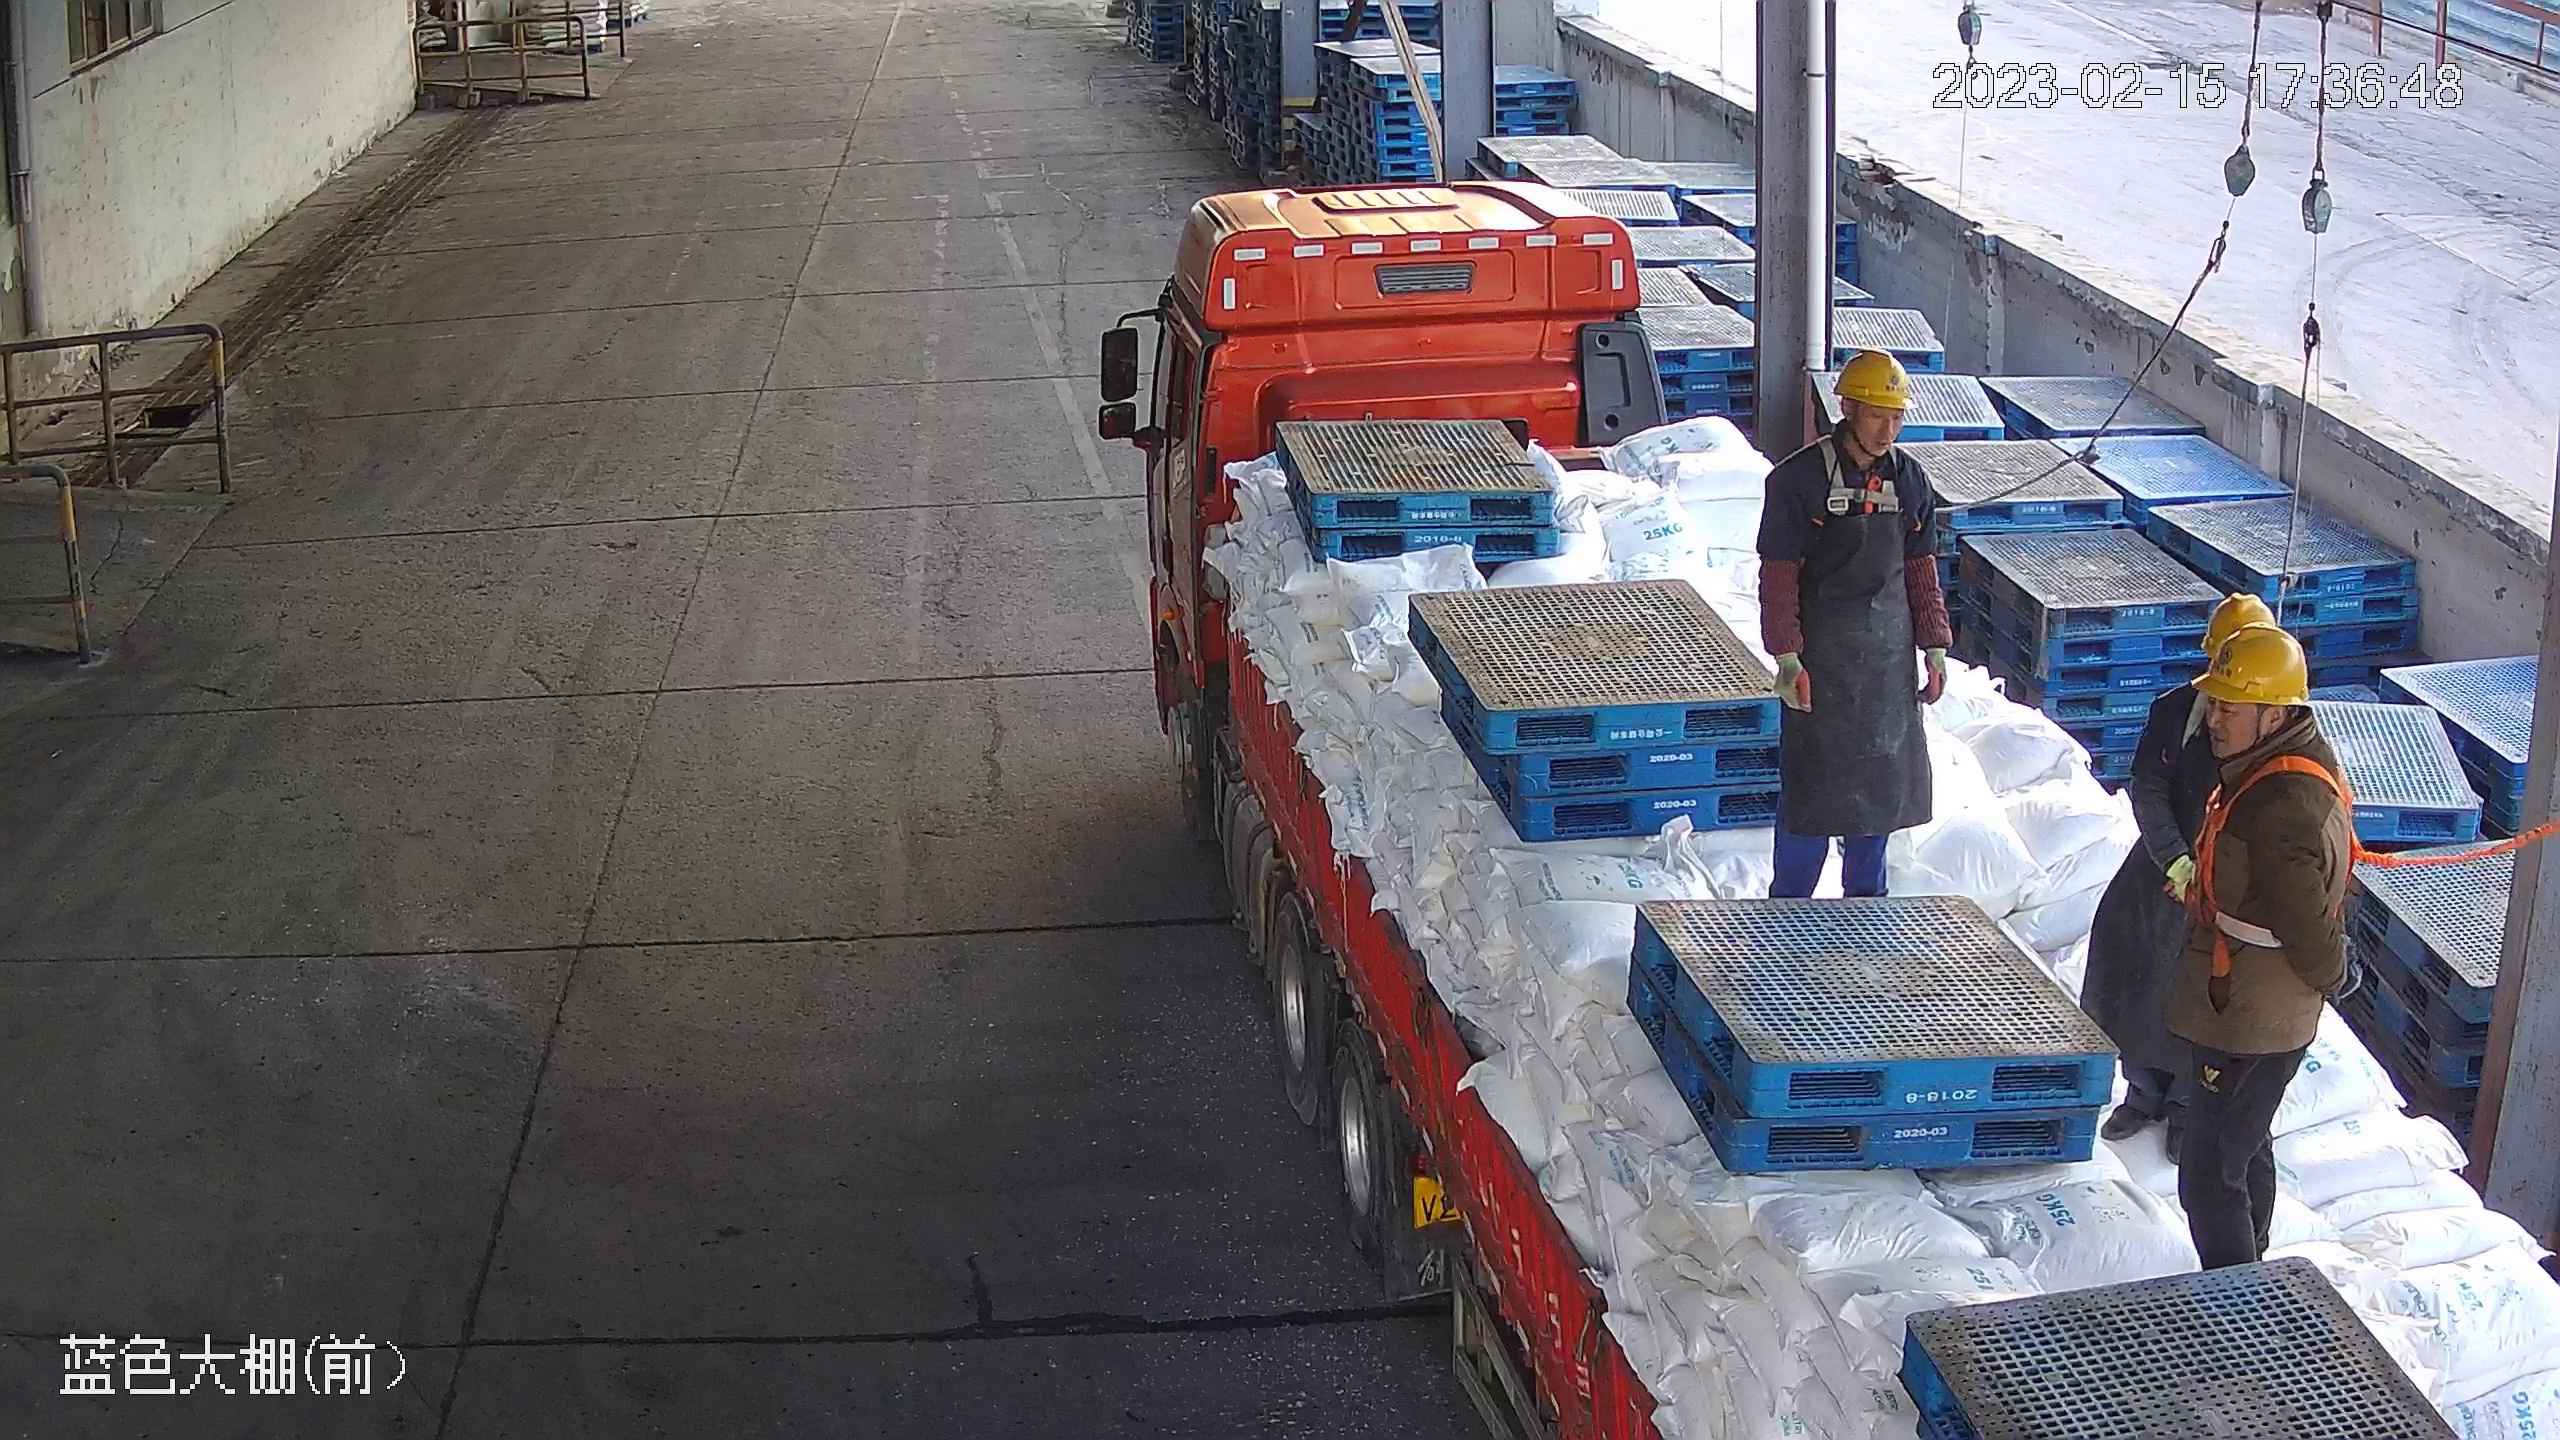belt: (2189, 751, 2366, 979), (1818, 433, 1901, 518)
head: (2177, 621, 2354, 832), (1760, 347, 1936, 519)
helmet: (2190, 620, 2307, 704), (2201, 591, 2277, 659), (1833, 346, 1909, 409)
people: (2175, 620, 2367, 1270), (2077, 592, 2278, 1165), (1757, 348, 1956, 897)
truck: (1097, 182, 2560, 1440)
